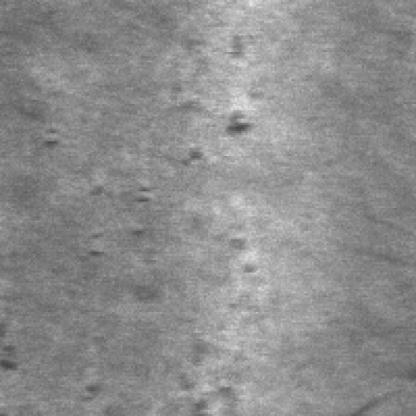rolled-in_scale: (48, 129, 164, 270), (166, 16, 258, 121)
